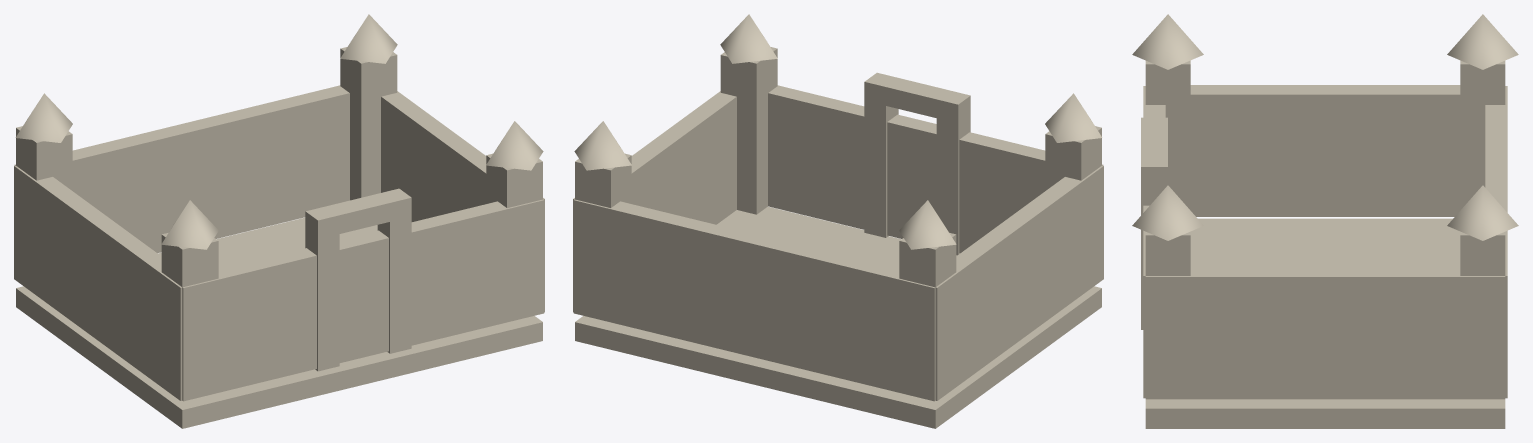
File: 09_thanh_nha_ho.glb
The picture shows the model from 3 angles, left to right: view 1: azimuth 30°, elevation 25°; view 2: azimuth 150°, elevation 25°; view 3: azimuth 270°, elevation 25°; orthographic projection. The views are drawn at different scales.
Parts seen in each view (by area): view 1: ThanhNhaHo; view 2: ThanhNhaHo; view 3: ThanhNhaHo.
Boxes of the visible parts, x1,y1,x2,y2 form: ThanhNhaHo: (14,14,544,428); ThanhNhaHo: (573,14,1103,428); ThanhNhaHo: (1132,14,1518,428).
Bounding box in the file's own units: 1.06 × 0.575 × 0.86.
